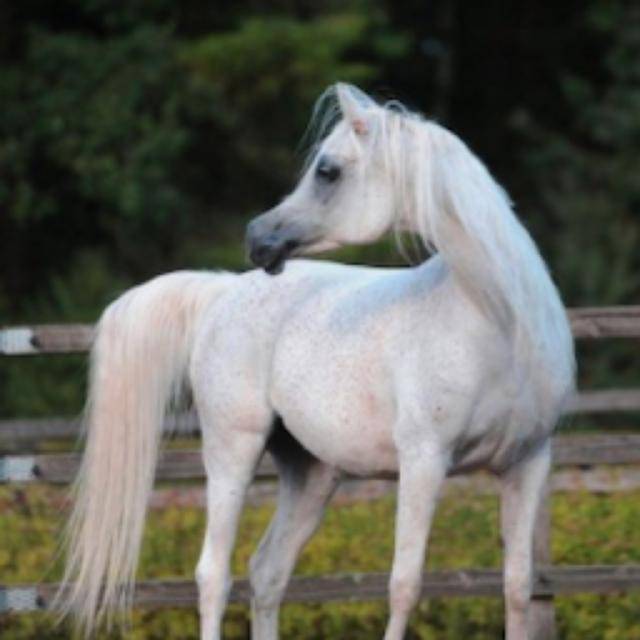Horse: (32, 75, 586, 638)
